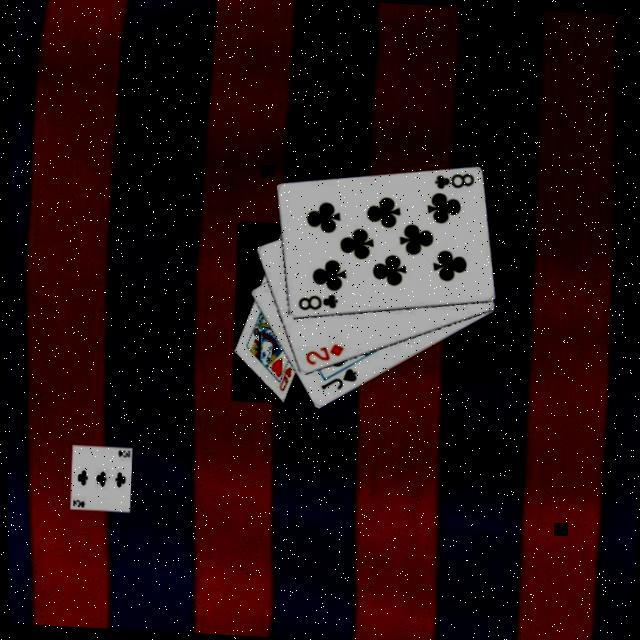2D: (298, 341, 342, 371)
8C: (292, 292, 338, 317), (428, 171, 474, 195)
JS: (314, 366, 357, 396)
